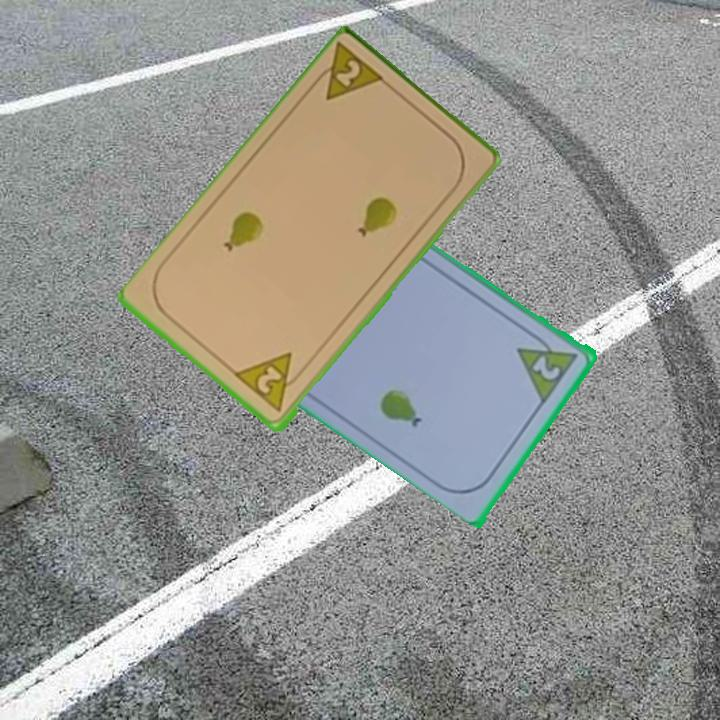2p: (306, 40, 390, 105), (232, 349, 308, 417), (529, 351, 564, 383)
